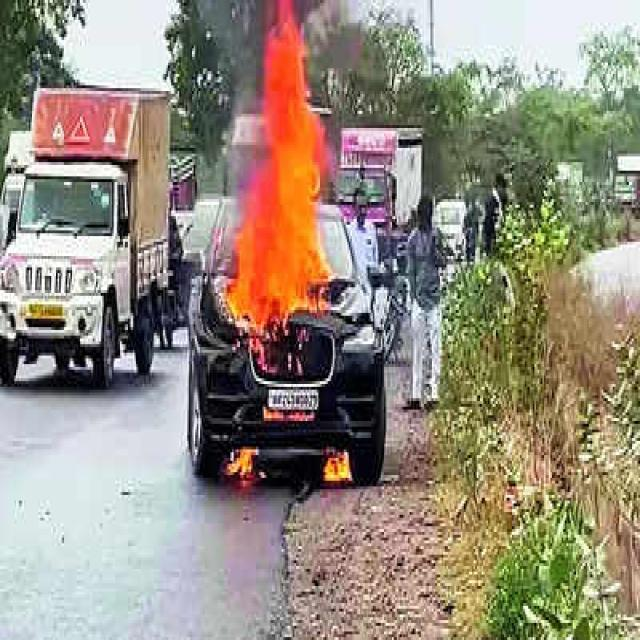accident: (188, 2, 386, 490)
truck: (0, 89, 170, 386)
